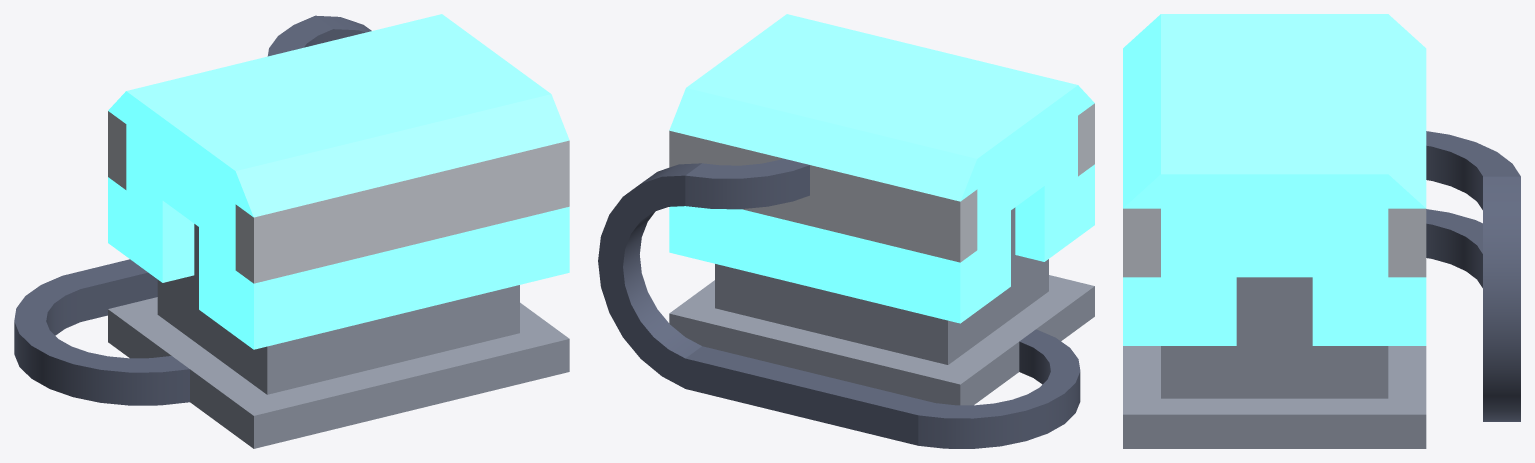
File: machine_generator.glb
3 renders of one model, left to right at view 1: azimuth 30°, elevation 25°; view 2: azimuth 150°, elevation 25°; view 3: azimuth 270°, elevation 25°, orthographic. The views are drawn at different scales.
Parts seen in each view (by area): view 1: machine_generator, cable; view 2: machine_generator, cable; view 3: machine_generator, cable.
Part boxes in pixels (x1,y1,x2,y2): machine_generator: (108, 14, 569, 448); cable: (14, 15, 371, 405); machine_generator: (669, 14, 1094, 405); cable: (598, 158, 1080, 448); machine_generator: (1123, 14, 1426, 448); cable: (1426, 131, 1520, 421).
Bounding box in the file's own units: 0.7 × 0.4 × 0.525.
